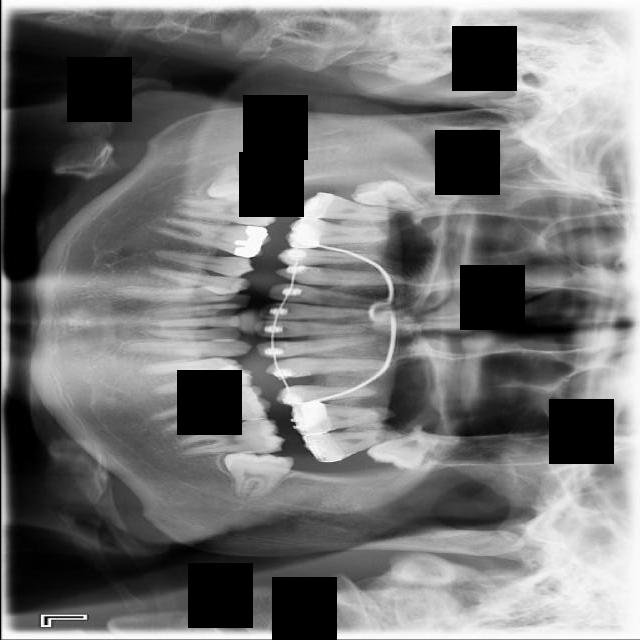3M ESPE Implant: (348, 175, 428, 214)
52: (229, 219, 269, 265), (295, 184, 334, 228), (284, 213, 323, 252), (291, 402, 327, 436)
73: (37, 582, 45, 602)
BioHorizons Implant: (302, 428, 407, 464)
BioLife Implant: (365, 429, 443, 479)
Biomet 3i Implant: (219, 450, 295, 500)
Blue Sky Bio Implant: (174, 415, 287, 461)
Caries: (295, 191, 397, 224)
Implant: (174, 190, 280, 228)
Keystone Dental Implant: (204, 161, 278, 200)
